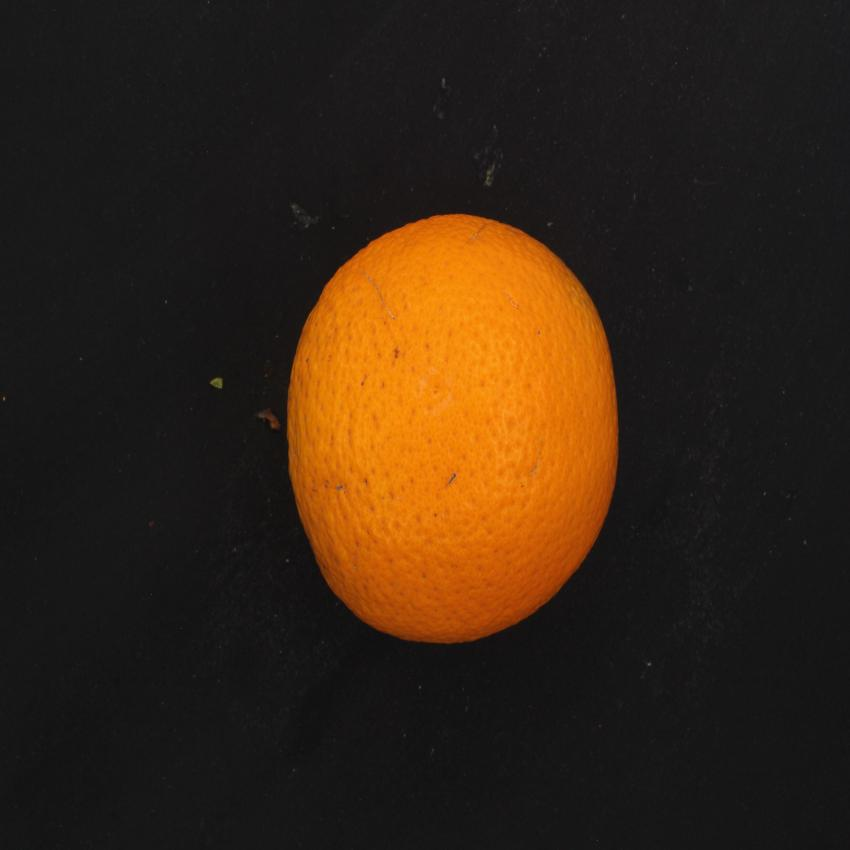Buen estado: (277, 203, 629, 664)
